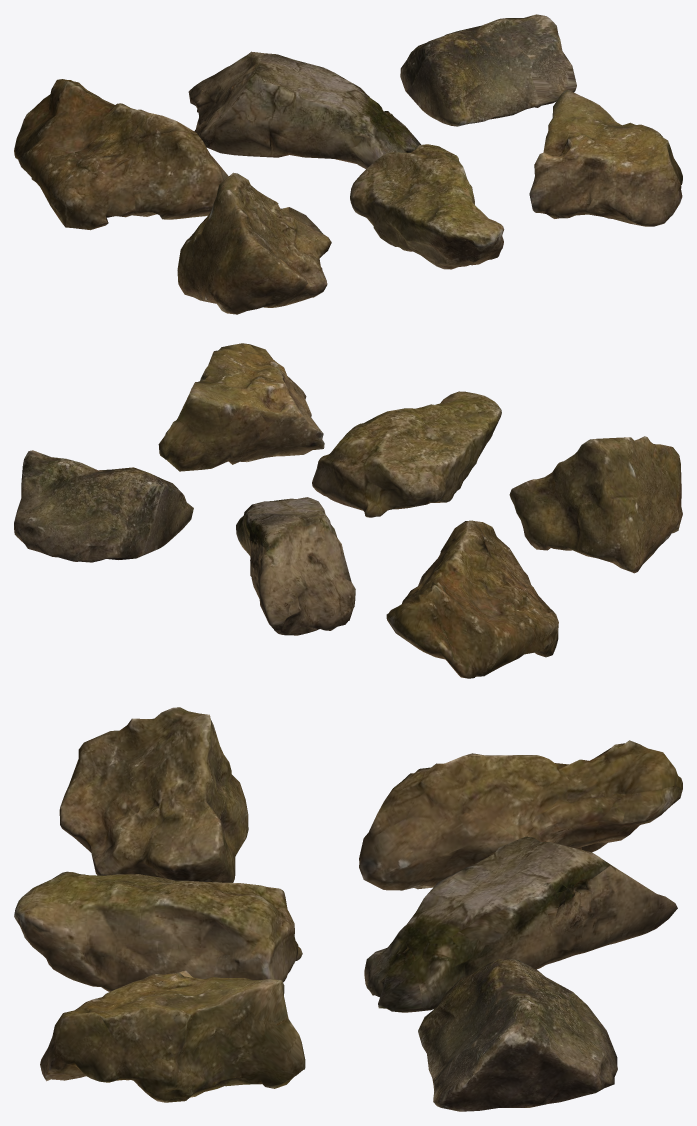
File: rock_moss_set_01.glb
3 views of the same model, one above another, from view 1: azimuth 30°, elevation 25°; view 2: azimuth 150°, elevation 25°; view 3: azimuth 270°, elevation 25° (orthographic). The views are drawn at different scales.
Visible parts, largest first — view 1: rock_moss_set_01_rock01, rock_moss_set_01_rock02, rock_moss_set_01_rock06, rock_moss_set_01_rock04, rock_moss_set_01_rock03, rock_moss_set_01_rock05; view 2: rock_moss_set_01_rock04, rock_moss_set_01_rock01, rock_moss_set_01_rock05, rock_moss_set_01_rock03, rock_moss_set_01_rock06, rock_moss_set_01_rock02; view 3: rock_moss_set_01_rock01, rock_moss_set_01_rock02, rock_moss_set_01_rock05, rock_moss_set_01_rock04, rock_moss_set_01_rock06, rock_moss_set_01_rock03.
Boxes of the visible parts, x1,y1,x2,y2 form: rock_moss_set_01_rock01: [14, 79, 228, 230]; rock_moss_set_01_rock02: [188, 51, 421, 168]; rock_moss_set_01_rock06: [529, 90, 682, 226]; rock_moss_set_01_rock04: [177, 172, 331, 314]; rock_moss_set_01_rock03: [400, 14, 576, 126]; rock_moss_set_01_rock05: [350, 144, 504, 269]; rock_moss_set_01_rock04: [509, 436, 682, 573]; rock_moss_set_01_rock01: [386, 520, 558, 678]; rock_moss_set_01_rock05: [312, 391, 501, 517]; rock_moss_set_01_rock03: [14, 450, 193, 562]; rock_moss_set_01_rock06: [158, 343, 324, 471]; rock_moss_set_01_rock02: [236, 497, 355, 635]; rock_moss_set_01_rock01: [359, 740, 682, 890]; rock_moss_set_01_rock02: [364, 836, 677, 1012]; rock_moss_set_01_rock05: [14, 871, 302, 991]; rock_moss_set_01_rock04: [59, 707, 248, 882]; rock_moss_set_01_rock06: [40, 970, 305, 1102]; rock_moss_set_01_rock03: [418, 958, 617, 1111].
Bounding box in the file's own units: 8 × 1.76 × 6.94.
1 material, 1 textured.
